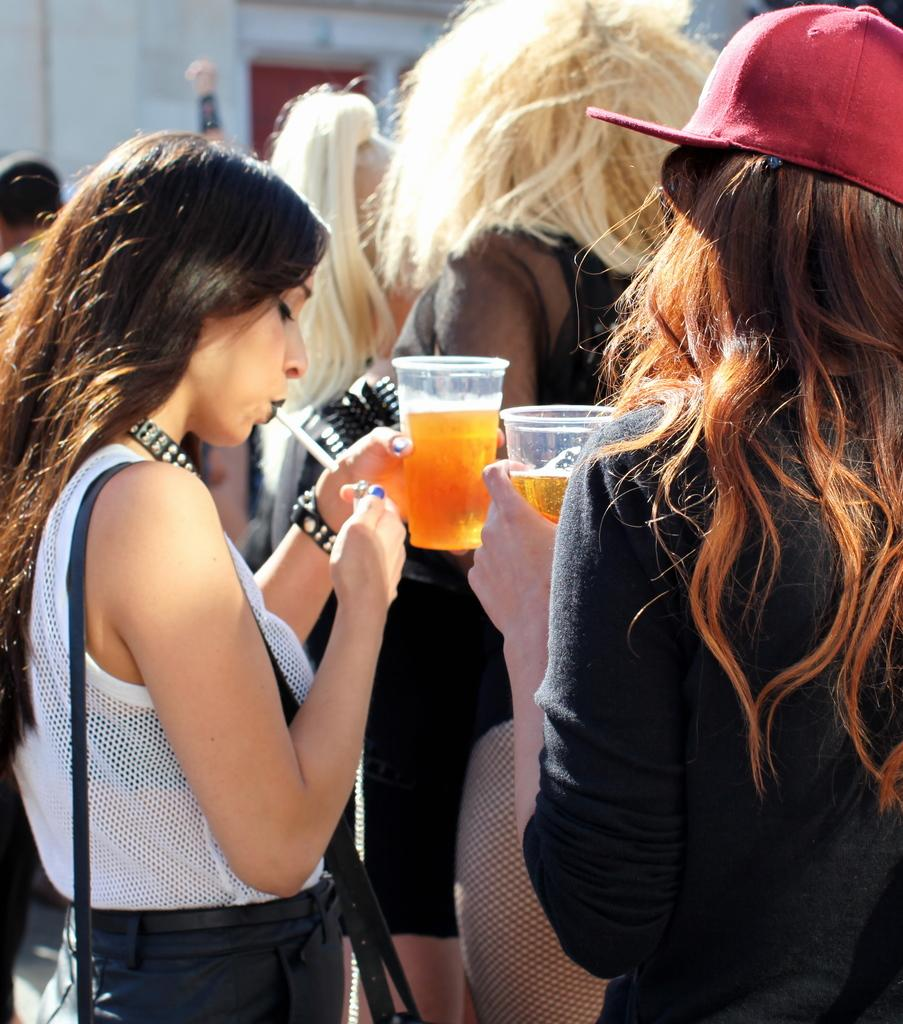Hat: (589, 2, 902, 208), (0, 156, 64, 218)
